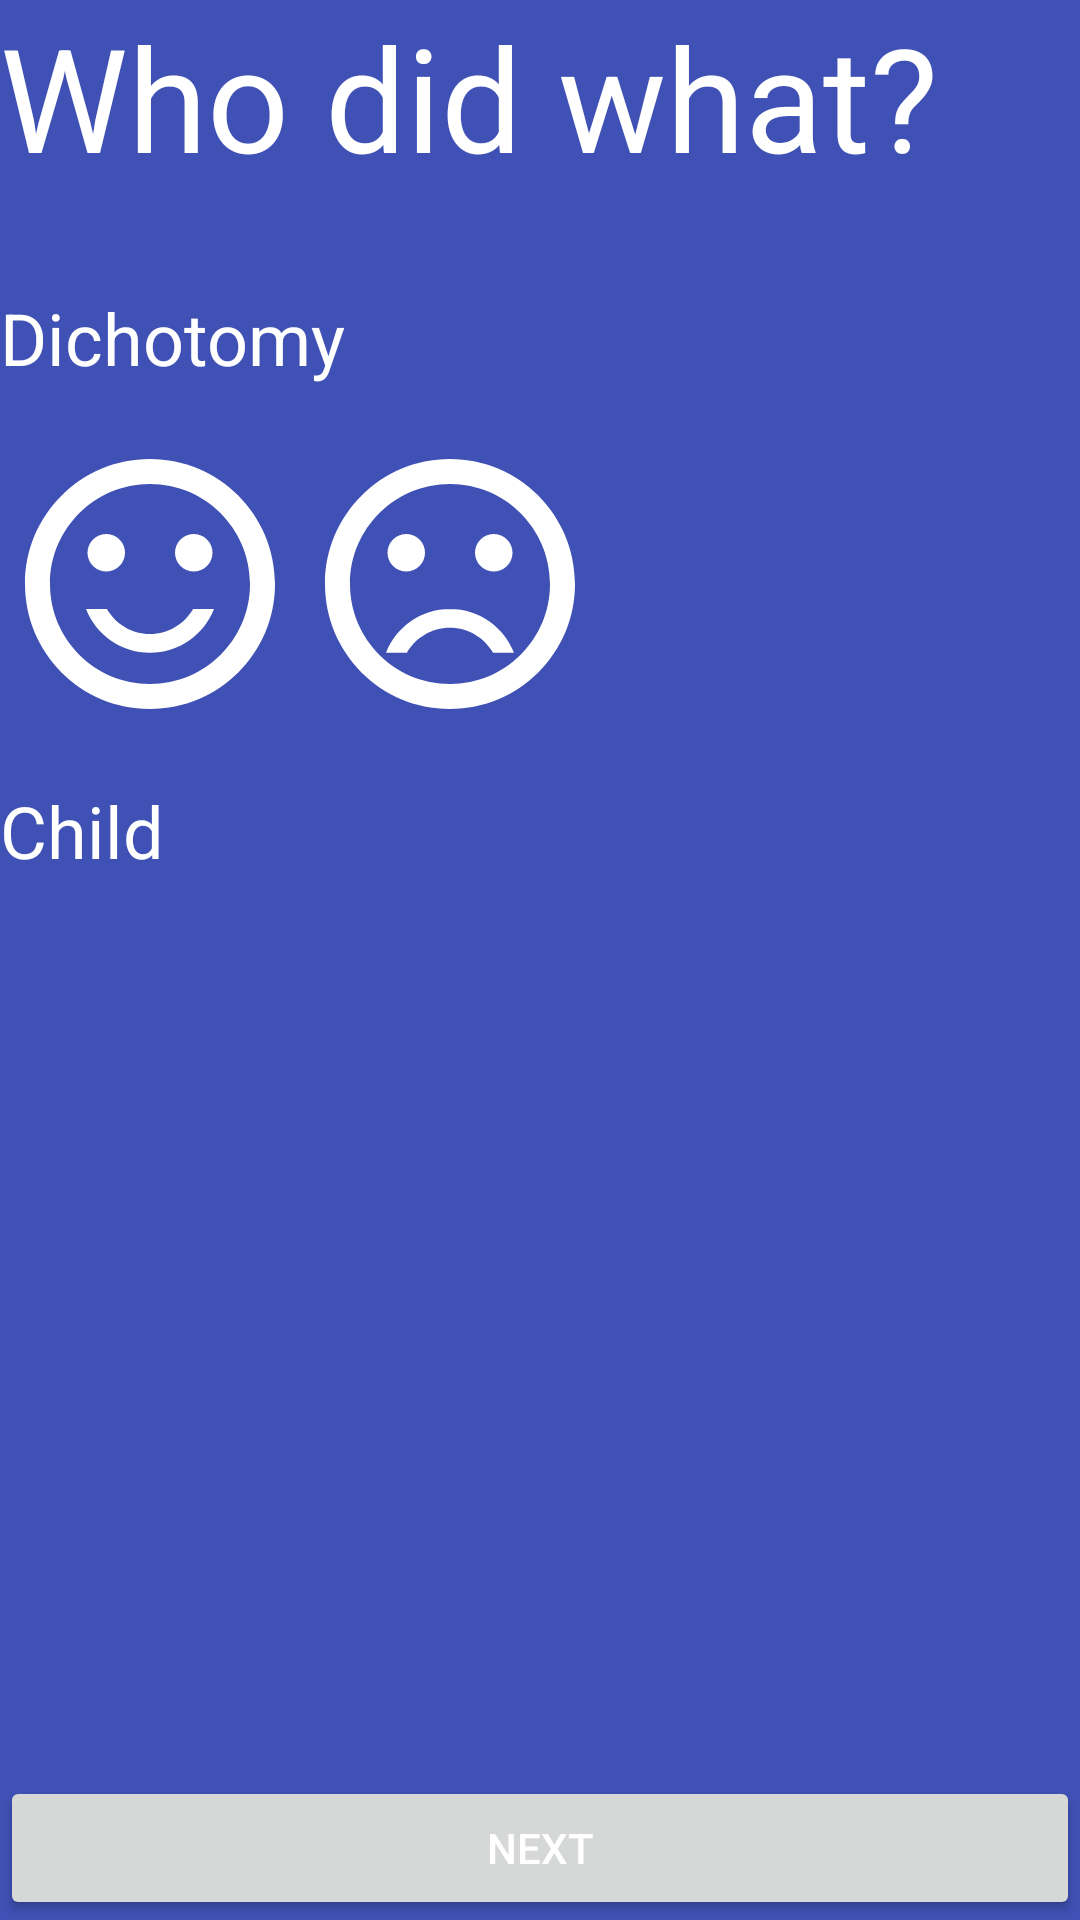

Point at icon controls on the screen. Image size 1080px×1920px, points as (x=x, y=y).
Bad: (x=450, y=584)
Good: (x=150, y=584)
